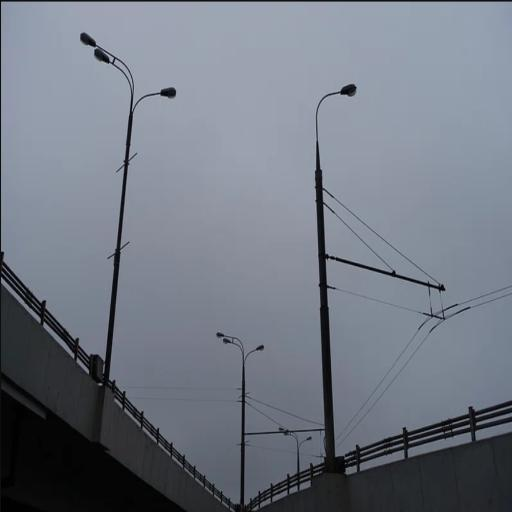off street light: (73, 17, 185, 438), (309, 69, 372, 454), (215, 314, 268, 504)
